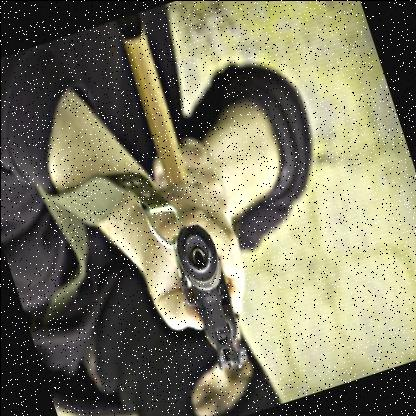rifle: (85, 6, 268, 377)
